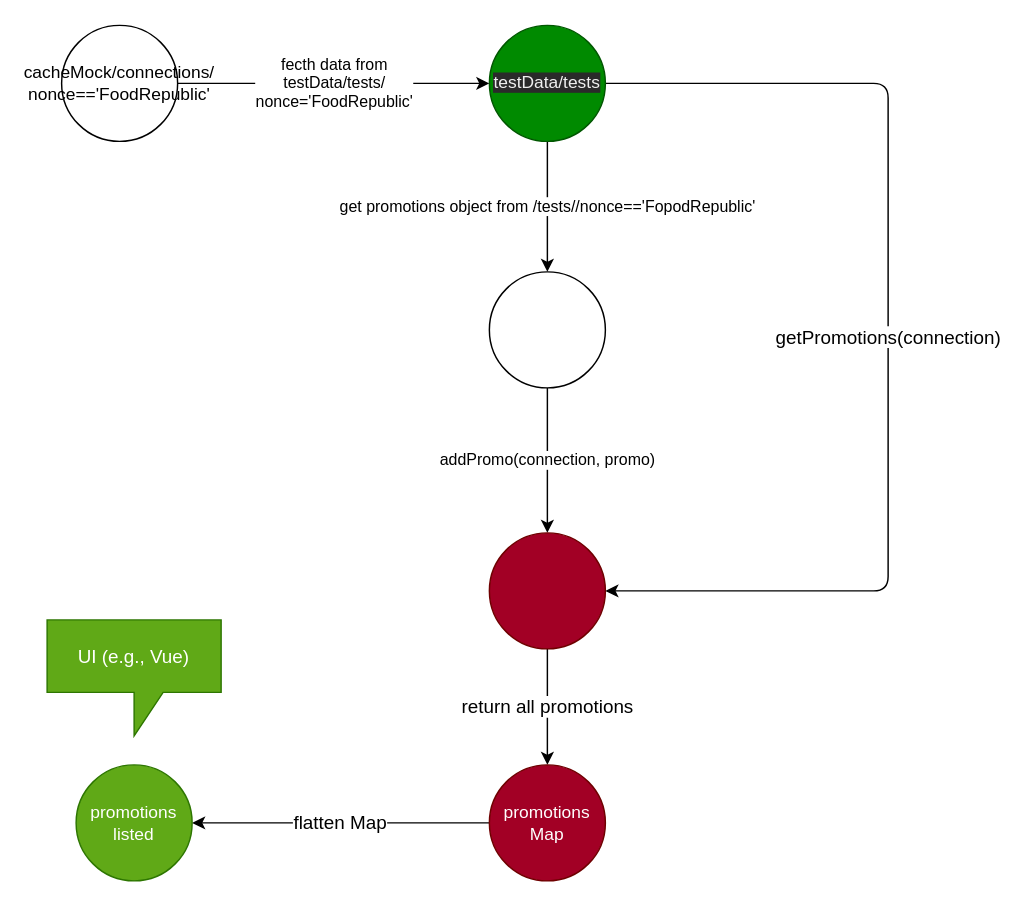
This 1025x906 diagram has some shape labels left out. The centre of each missing label's shape, as x and y in pixels:
"testData/tests/nonce== 'FoodRepublic'/promotions" belongs at point (546, 329).
"tqr:sg:FoodRepublic:promotions" belongs at point (546, 590).
